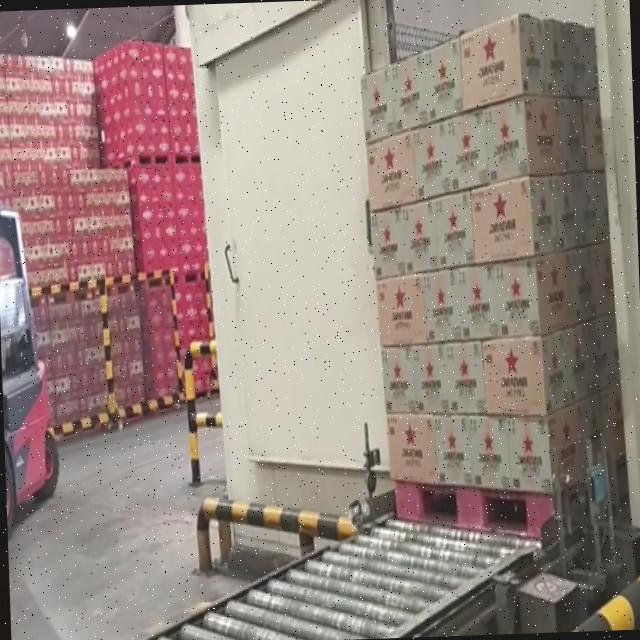pallet: (340, 0, 633, 563)
